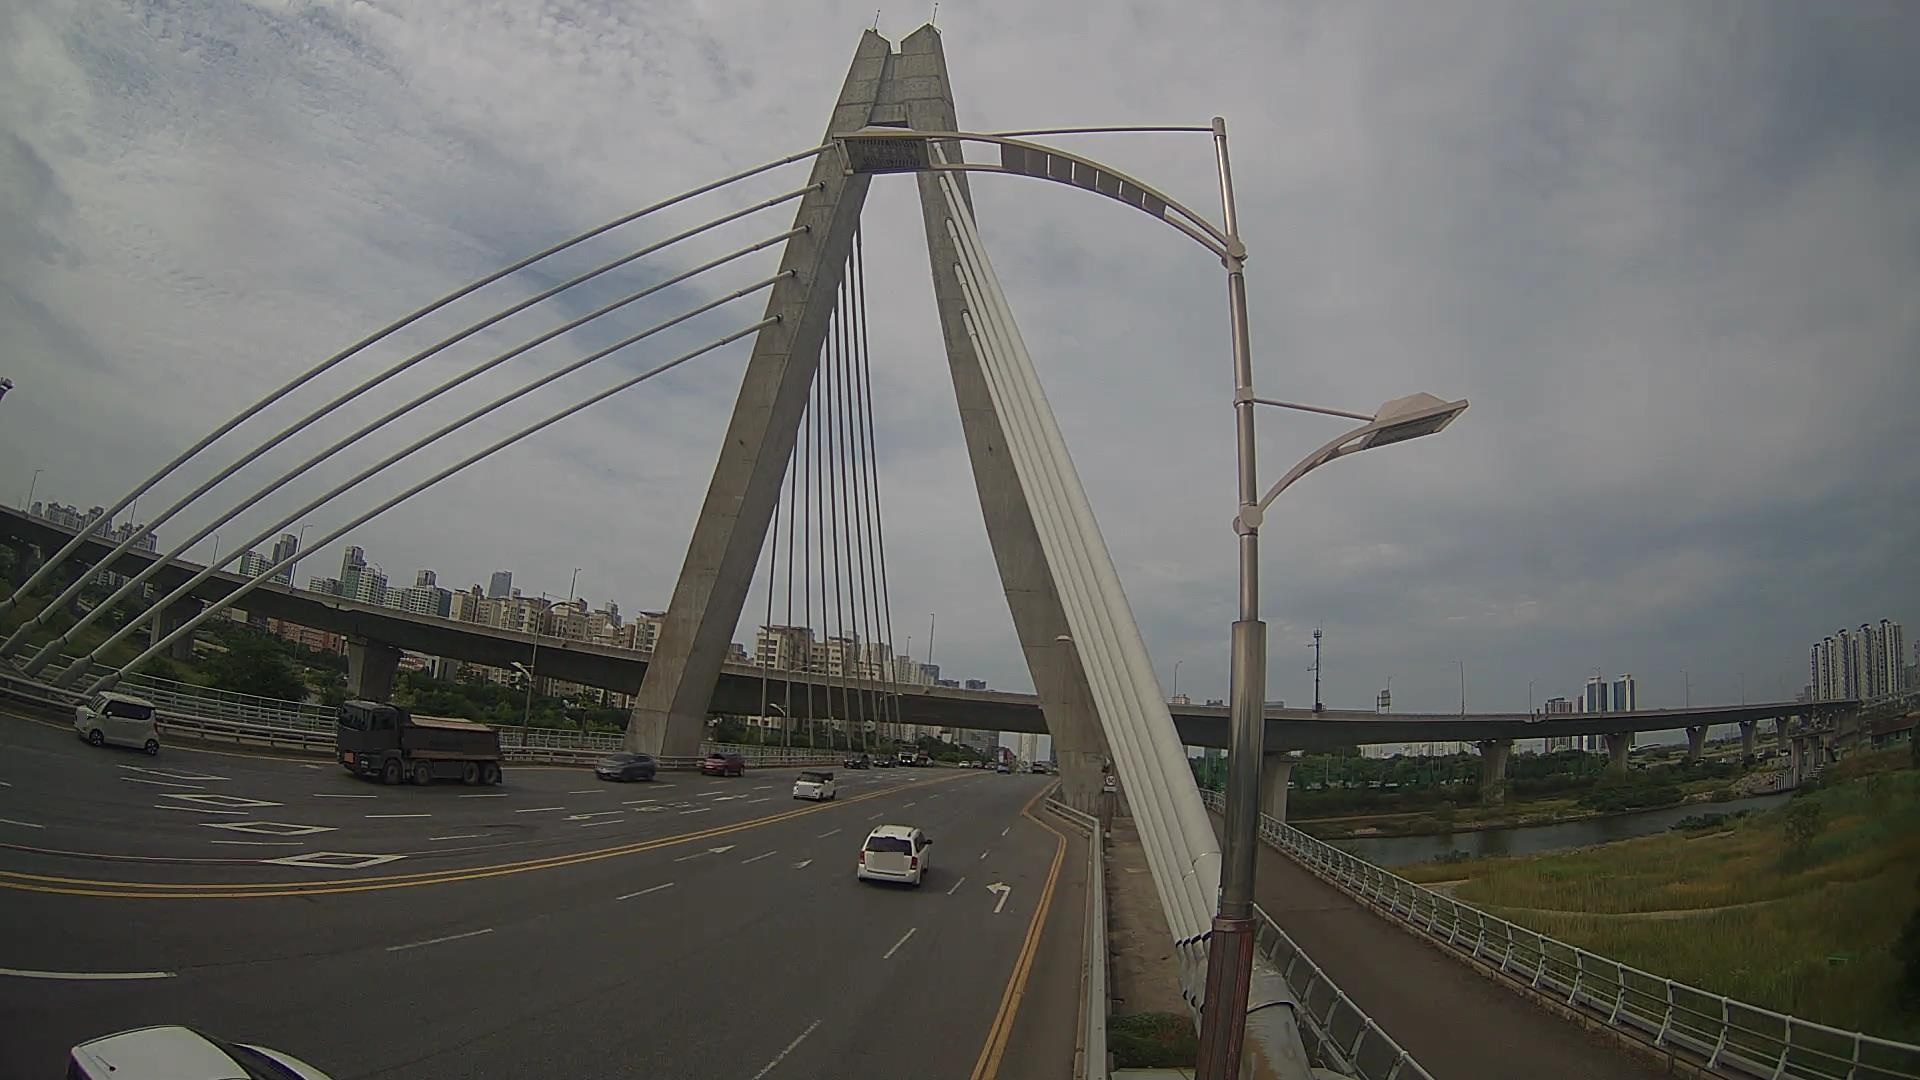정상차량: (335, 696, 505, 786)
